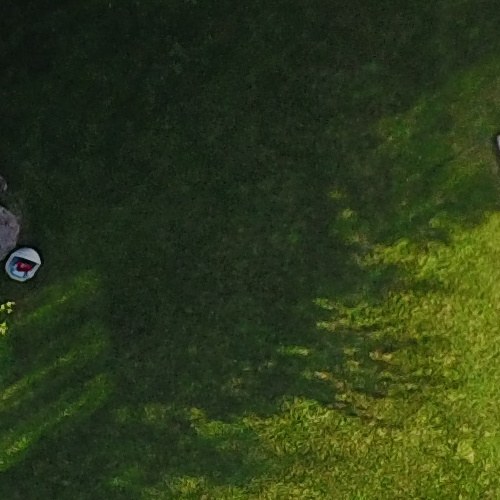container: (4, 245, 51, 289)
no larvae: (2, 243, 49, 287)
